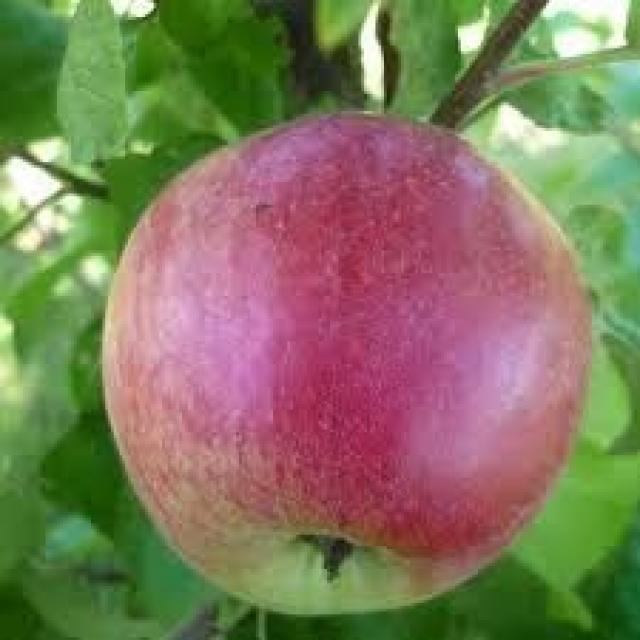Fresh Apple: (97, 107, 593, 628)
